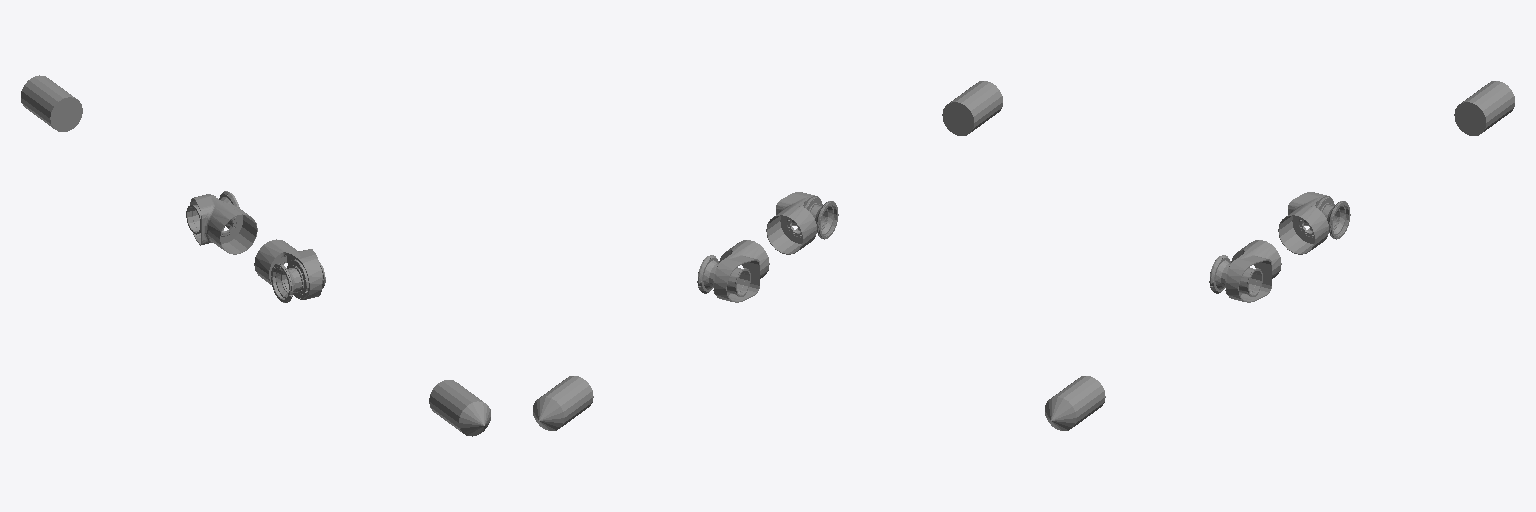
The robot description file, URDF, robot "repair":
<?xml version="1.0" ?>
<!-- =================================================================================== -->
<!-- |    This document was autogenerated by xacro from repair.urdf.xacro              | -->
<!-- |    EDITING THIS FILE BY HAND IS NOT RECOMMENDED                                 | -->
<!-- =================================================================================== -->
<robot name="repair">
  <!-- color -->
  <material name="darkblue">
    <color rgba="0.0 0.3 0.9 1"/>
  </material>
  <material name="dark">
    <color rgba="0.6 0.6 0.6 1"/>
  </material>
  <link name="world"/>
  <link name="base_link">
</link>
  <joint name="base_joint" type="fixed">
    <origin rpy="0 0 0" xyz="0 0 0.5"/>
    <parent link="world"/>
    <child link="base_link"/>
  </joint>
  <link name="r_arm_mount_frame">
</link>
  <joint name="r_arm_mount_joint" type="fixed">
    <origin rpy="1.57079632679 3.14159265359 0" xyz="0 -0.2 0"/>
    <parent link="base_link"/>
    <child link="r_arm_mount_frame"/>
  </joint>
  <joint name="arm_1_joint_1" type="revolute">
    <origin rpy="0 0 0" xyz="0 0 0"/>
    <parent link="r_arm_mount_frame"/>
    <child link="arm_1_link_1"/>
    <axis xyz="0 0 1"/>
    <limit effort="200.0" lower="-2.6179938779916667" upper="2.6179938779916667" velocity="10.0"/>
  </joint>
  <joint name="arm_1_joint_2" type="revolute">
    <origin rpy="0 -1.57079632679 3.14159265359" xyz="0.007 0 0"/>
    <parent link="arm_1_link_1"/>
    <child link="arm_1_link_2"/>
    <axis xyz="0 0 1"/>
    <limit effort="200.0" lower="-1.570796326795" upper="1.570796326795" velocity="10.0"/>
  </joint>
  <joint name="arm_1_joint_3" type="revolute">
    <origin rpy="0 -1.57079632679 3.14159265359" xyz="0 0 0"/>
    <parent link="arm_1_link_2"/>
    <child link="arm_1_link_3"/>
    <axis xyz="0 0 1"/>
    <limit effort="200.0" lower="-2.6179938779916667" upper="2.6179938779916667" velocity="10.0"/>
  </joint>
  <joint name="arm_1_joint_4" type="revolute">
    <origin rpy="0 -1.57079632679 3.14159265359" xyz="0 0.0225 0.36014999999999997"/>
    <parent link="arm_1_link_3"/>
    <child link="arm_1_link_4"/>
    <axis xyz="0 0 1"/>
    <limit effort="200.0" lower="-2.6179938779916667" upper="0.8726646259972222" velocity="10.0"/>
  </joint>
  <joint name="arm_1_joint_5" type="revolute">
    <origin rpy="0 -1.57079632679 3.14159265359" xyz="0 0 0"/>
    <parent link="arm_1_link_4"/>
    <child link="arm_1_link_5"/>
    <axis xyz="0 0 1"/>
    <limit effort="200.0" lower="-2.6179938779916667" upper="2.6179938779916667" velocity="10.0"/>
  </joint>
  <joint name="arm_1_joint_6" type="revolute">
    <origin rpy="0 -1.57079632679 3.14159265359" xyz="0 0 0.321"/>
    <parent link="arm_1_link_5"/>
    <child link="arm_1_link_6"/>
    <axis xyz="0 0 1"/>
    <limit effort="200.0" lower="-2.6179938779916667" upper="2.6179938779916667" velocity="10.0"/>
  </joint>
  <joint name="arm_1_joint_7" type="revolute">
    <origin rpy="0 -1.57079632679 3.14159265359" xyz="0.18 0 0"/>
    <parent link="arm_1_link_6"/>
    <child link="arm_1_link_7"/>
    <axis xyz="0 0 1"/>
    <limit effort="200.0" lower="-2.6179938779916667" upper="2.6179938779916667" velocity="10.0"/>
  </joint>
  <joint name="arm_1_tcp_joint" type="fixed">
    <origin rpy="0 0 0" xyz="0 0 0"/>
    <parent link="arm_1_link_7"/>
    <child link="arm_1_tcp"/>
  </joint>
  <link name="arm_1_link_1">
    <inertial>
      <mass value="0.1"/>
      <inertia ixx="0.0001" ixy="0" ixz="0" iyy="0.0001" iyz="0" izz="0.0001"/>
      <origin xyz="0 0 0"/>
    </inertial>
    <collision name="arm_1_link_1_collision">
      <geometry>
        <mesh filename="package://repair_urdf/meshes/link_1.stl" scale="0.001 0.001 0.001"/>
      </geometry>
      <material name="dark"/>
    </collision>
    <visual name="arm_1_link_1_visual">
      <geometry>
        <mesh filename="package://repair_urdf/meshes/link_1.stl" scale="0.001 0.001 0.001"/>
      </geometry>
      <material name="dark"/>
    </visual>
  </link>
  <link name="arm_1_link_2">
    <inertial>
      <mass value="0.1"/>
      <inertia ixx="0.0001" ixy="0" ixz="0" iyy="0.0001" iyz="0" izz="0.0001"/>
      <origin xyz="0 0 0"/>
    </inertial>
    <collision name="arm_1_link_2_collision">
      <geometry>
        <mesh filename="package://repair_urdf/meshes/link_2.stl" scale="0.001 0.001 0.001"/>
      </geometry>
      <material name="dark"/>
    </collision>
    <visual name="arm_1_link_2_visual">
      <geometry>
        <mesh filename="package://repair_urdf/meshes/link_2.stl" scale="0.001 0.001 0.001"/>
      </geometry>
      <material name="dark"/>
    </visual>
  </link>
  <link name="arm_1_link_3">
    <inertial>
      <mass value="0.1"/>
      <inertia ixx="0.0001" ixy="0" ixz="0" iyy="0.0001" iyz="0" izz="0.0001"/>
      <origin xyz="0 0 0"/>
    </inertial>
    <collision name="arm_1_link_3_collision">
      <geometry>
        <mesh filename="package://repair_urdf/meshes/link_3.stl" scale="0.001 0.001 0.001"/>
      </geometry>
      <material name="dark"/>
    </collision>
    <visual name="arm_1_link_3_visual">
      <geometry>
        <mesh filename="package://repair_urdf/meshes/link_3.stl" scale="0.001 0.001 0.001"/>
      </geometry>
      <material name="dark"/>
    </visual>
  </link>
  <link name="arm_1_link_4">
    <inertial>
      <mass value="0.1"/>
      <inertia ixx="0.0001" ixy="0" ixz="0" iyy="0.0001" iyz="0" izz="0.0001"/>
      <origin xyz="0 0 0"/>
    </inertial>
    <collision name="arm_1_link_4_collision">
      <geometry>
        <mesh filename="package://repair_urdf/meshes/link_4.stl" scale="0.001 0.001 0.001"/>
      </geometry>
      <material name="dark"/>
    </collision>
    <visual name="arm_1_link_4_visual">
      <geometry>
        <mesh filename="package://repair_urdf/meshes/link_4.stl" scale="0.001 0.001 0.001"/>
      </geometry>
      <material name="dark"/>
    </visual>
  </link>
  <link name="arm_1_link_5">
    <inertial>
      <mass value="0.1"/>
      <inertia ixx="0.0001" ixy="0" ixz="0" iyy="0.0001" iyz="0" izz="0.0001"/>
      <origin xyz="0 0 0"/>
    </inertial>
    <collision name="arm_1_link_5_collision">
      <geometry>
        <mesh filename="package://repair_urdf/meshes/link_5.stl" scale="0.001 0.001 0.001"/>
      </geometry>
      <material name="dark"/>
    </collision>
    <visual name="arm_1_link_5_visual">
      <geometry>
        <mesh filename="package://repair_urdf/meshes/link_5.stl" scale="0.001 0.001 0.001"/>
      </geometry>
      <material name="dark"/>
    </visual>
  </link>
  <link name="arm_1_link_6">
    <inertial>
      <mass value="0.1"/>
      <inertia ixx="0.0001" ixy="0" ixz="0" iyy="0.0001" iyz="0" izz="0.0001"/>
      <origin xyz="0 0 0"/>
    </inertial>
    <collision name="arm_1_link_6_collision">
      <geometry>
        <mesh filename="package://repair_urdf/meshes/link_6.stl" scale="0.001 0.001 0.001"/>
      </geometry>
      <material name="dark"/>
    </collision>
    <visual name="arm_1_link_6_visual">
      <geometry>
        <mesh filename="package://repair_urdf/meshes/link_6.stl" scale="0.001 0.001 0.001"/>
      </geometry>
      <material name="dark"/>
    </visual>
  </link>
  <link name="arm_1_link_7">
    <inertial>
      <mass value="0.1"/>
      <inertia ixx="0.0001" ixy="0" ixz="0" iyy="0.0001" iyz="0" izz="0.0001"/>
      <origin xyz="0 0 0"/>
    </inertial>
    <collision name="arm_1_link_7_collision">
      <geometry>
        <mesh filename="package://repair_urdf/meshes/link_7.stl" scale="0.001 0.001 0.001"/>
      </geometry>
      <material name="dark"/>
    </collision>
    <visual name="arm_1_link_7_visual">
      <geometry>
        <mesh filename="package://repair_urdf/meshes/link_7.stl" scale="0.001 0.001 0.001"/>
      </geometry>
      <material name="dark"/>
    </visual>
  </link>
  <link name="arm_1_tcp"/>
  <link name="l_arm_mount_frame">
</link>
  <joint name="l_arm_mount_joint" type="fixed">
    <origin rpy="-1.57079632679 0 0" xyz="0 0.2 0"/>
    <parent link="base_link"/>
    <child link="l_arm_mount_frame"/>
  </joint>
  <joint name="arm_2_joint_1" type="revolute">
    <origin rpy="0 0 0" xyz="0 0 0"/>
    <parent link="l_arm_mount_frame"/>
    <child link="arm_2_link_1"/>
    <axis xyz="0 0 1"/>
    <limit effort="200.0" lower="-2.6179938779916667" upper="2.6179938779916667" velocity="10.0"/>
  </joint>
  <joint name="arm_2_joint_2" type="revolute">
    <origin rpy="0 -1.57079632679 3.14159265359" xyz="0.007 0 0"/>
    <parent link="arm_2_link_1"/>
    <child link="arm_2_link_2"/>
    <axis xyz="0 0 1"/>
    <limit effort="200.0" lower="-1.570796326795" upper="1.570796326795" velocity="10.0"/>
  </joint>
  <joint name="arm_2_joint_3" type="revolute">
    <origin rpy="0 -1.57079632679 3.14159265359" xyz="0 0 0"/>
    <parent link="arm_2_link_2"/>
    <child link="arm_2_link_3"/>
    <axis xyz="0 0 1"/>
    <limit effort="200.0" lower="-2.6179938779916667" upper="2.6179938779916667" velocity="10.0"/>
  </joint>
  <joint name="arm_2_joint_4" type="revolute">
    <origin rpy="0 -1.57079632679 3.14159265359" xyz="0 0.0225 0.36014999999999997"/>
    <parent link="arm_2_link_3"/>
    <child link="arm_2_link_4"/>
    <axis xyz="0 0 1"/>
    <limit effort="200.0" lower="-2.6179938779916667" upper="0.8726646259972222" velocity="10.0"/>
  </joint>
  <joint name="arm_2_joint_5" type="revolute">
    <origin rpy="0 -1.57079632679 3.14159265359" xyz="0 0 0"/>
    <parent link="arm_2_link_4"/>
    <child link="arm_2_link_5"/>
    <axis xyz="0 0 1"/>
    <limit effort="200.0" lower="-2.6179938779916667" upper="2.6179938779916667" velocity="10.0"/>
  </joint>
  <joint name="arm_2_joint_6" type="revolute">
    <origin rpy="0 -1.57079632679 3.14159265359" xyz="0 0 0.321"/>
    <parent link="arm_2_link_5"/>
    <child link="arm_2_link_6"/>
    <axis xyz="0 0 1"/>
    <limit effort="200.0" lower="-2.6179938779916667" upper="2.6179938779916667" velocity="10.0"/>
  </joint>
  <joint name="arm_2_joint_7" type="revolute">
    <origin rpy="0 -1.57079632679 3.14159265359" xyz="0.18 0 0"/>
    <parent link="arm_2_link_6"/>
    <child link="arm_2_link_7"/>
    <axis xyz="0 0 1"/>
    <limit effort="200.0" lower="-2.6179938779916667" upper="2.6179938779916667" velocity="10.0"/>
  </joint>
  <joint name="arm_2_tcp_joint" type="fixed">
    <origin rpy="0 0 0" xyz="0 0 0"/>
    <parent link="arm_2_link_7"/>
    <child link="arm_2_tcp"/>
  </joint>
  <link name="arm_2_link_1">
    <inertial>
      <mass value="0.1"/>
      <inertia ixx="0.0001" ixy="0" ixz="0" iyy="0.0001" iyz="0" izz="0.0001"/>
      <origin xyz="0 0 0"/>
    </inertial>
    <collision name="arm_2_link_1_collision">
      <geometry>
        <mesh filename="package://repair_urdf/meshes/link_1.stl" scale="0.001 0.001 0.001"/>
      </geometry>
      <material name="dark"/>
    </collision>
    <visual name="arm_2_link_1_visual">
      <geometry>
        <mesh filename="package://repair_urdf/meshes/link_1.stl" scale="0.001 0.001 0.001"/>
      </geometry>
      <material name="dark"/>
    </visual>
  </link>
  <link name="arm_2_link_2">
    <inertial>
      <mass value="0.1"/>
      <inertia ixx="0.0001" ixy="0" ixz="0" iyy="0.0001" iyz="0" izz="0.0001"/>
      <origin xyz="0 0 0"/>
    </inertial>
    <collision name="arm_2_link_2_collision">
      <geometry>
        <mesh filename="package://repair_urdf/meshes/link_2.stl" scale="0.001 0.001 0.001"/>
      </geometry>
      <material name="dark"/>
    </collision>
    <visual name="arm_2_link_2_visual">
      <geometry>
        <mesh filename="package://repair_urdf/meshes/link_2.stl" scale="0.001 0.001 0.001"/>
      </geometry>
      <material name="dark"/>
    </visual>
  </link>
  <link name="arm_2_link_3">
    <inertial>
      <mass value="0.1"/>
      <inertia ixx="0.0001" ixy="0" ixz="0" iyy="0.0001" iyz="0" izz="0.0001"/>
      <origin xyz="0 0 0"/>
    </inertial>
    <collision name="arm_2_link_3_collision">
      <geometry>
        <mesh filename="package://repair_urdf/meshes/link_3.stl" scale="0.001 0.001 0.001"/>
      </geometry>
      <material name="dark"/>
    </collision>
    <visual name="arm_2_link_3_visual">
      <geometry>
        <mesh filename="package://repair_urdf/meshes/link_3.stl" scale="0.001 0.001 0.001"/>
      </geometry>
      <material name="dark"/>
    </visual>
  </link>
  <link name="arm_2_link_4">
    <inertial>
      <mass value="0.1"/>
      <inertia ixx="0.0001" ixy="0" ixz="0" iyy="0.0001" iyz="0" izz="0.0001"/>
      <origin xyz="0 0 0"/>
    </inertial>
    <collision name="arm_2_link_4_collision">
      <geometry>
        <mesh filename="package://repair_urdf/meshes/link_4.stl" scale="0.001 0.001 0.001"/>
      </geometry>
      <material name="dark"/>
    </collision>
    <visual name="arm_2_link_4_visual">
      <geometry>
        <mesh filename="package://repair_urdf/meshes/link_4.stl" scale="0.001 0.001 0.001"/>
      </geometry>
      <material name="dark"/>
    </visual>
  </link>
  <link name="arm_2_link_5">
    <inertial>
      <mass value="0.1"/>
      <inertia ixx="0.0001" ixy="0" ixz="0" iyy="0.0001" iyz="0" izz="0.0001"/>
      <origin xyz="0 0 0"/>
    </inertial>
    <collision name="arm_2_link_5_collision">
      <geometry>
        <mesh filename="package://repair_urdf/meshes/link_5.stl" scale="0.001 0.001 0.001"/>
      </geometry>
      <material name="dark"/>
    </collision>
    <visual name="arm_2_link_5_visual">
      <geometry>
        <mesh filename="package://repair_urdf/meshes/link_5.stl" scale="0.001 0.001 0.001"/>
      </geometry>
      <material name="dark"/>
    </visual>
  </link>
  <link name="arm_2_link_6">
    <inertial>
      <mass value="0.1"/>
      <inertia ixx="0.0001" ixy="0" ixz="0" iyy="0.0001" iyz="0" izz="0.0001"/>
      <origin xyz="0 0 0"/>
    </inertial>
    <collision name="arm_2_link_6_collision">
      <geometry>
        <mesh filename="package://repair_urdf/meshes/link_6.stl" scale="0.001 0.001 0.001"/>
      </geometry>
      <material name="dark"/>
    </collision>
    <visual name="arm_2_link_6_visual">
      <geometry>
        <mesh filename="package://repair_urdf/meshes/link_6.stl" scale="0.001 0.001 0.001"/>
      </geometry>
      <material name="dark"/>
    </visual>
  </link>
  <link name="arm_2_link_7">
    <inertial>
      <mass value="0.1"/>
      <inertia ixx="0.0001" ixy="0" ixz="0" iyy="0.0001" iyz="0" izz="0.0001"/>
      <origin xyz="0 0 0"/>
    </inertial>
    <collision name="arm_2_link_7_collision">
      <geometry>
        <mesh filename="package://repair_urdf/meshes/link_7.stl" scale="0.001 0.001 0.001"/>
      </geometry>
      <material name="dark"/>
    </collision>
    <visual name="arm_2_link_7_visual">
      <geometry>
        <mesh filename="package://repair_urdf/meshes/link_7.stl" scale="0.001 0.001 0.001"/>
      </geometry>
      <material name="dark"/>
    </visual>
  </link>
  <link name="arm_2_tcp"/>
</robot>

--- Render facts (derived) ---
The picture shows the robot from 3 angles, left to right: view 1: azimuth 30°, elevation 25°; view 2: azimuth 150°, elevation 25°; view 3: azimuth 330°, elevation 25°; orthographic projection.
Robot: repair — 20 links, 19 joints (14 revolute, 5 fixed); root link world; default pose: all joints at 0.
Visible links, largest first — view 1: arm_1_link_1, arm_2_link_1, arm_1_link_7, arm_2_link_7; view 2: arm_1_link_1, arm_2_link_1, arm_1_link_7, arm_2_link_7; view 3: arm_2_link_1, arm_1_link_1, arm_1_link_7, arm_2_link_7.
Boxes of the visible links, box(x1,y1,x2,y2) form: arm_1_link_1: box(254, 239, 325, 302); arm_2_link_1: box(186, 191, 257, 254); arm_1_link_7: box(429, 380, 490, 436); arm_2_link_7: box(21, 75, 82, 131); arm_1_link_1: box(766, 192, 838, 254); arm_2_link_1: box(697, 240, 769, 302); arm_1_link_7: box(942, 81, 1002, 135); arm_2_link_7: box(533, 376, 593, 430); arm_2_link_1: box(1278, 192, 1350, 254); arm_1_link_1: box(1209, 240, 1281, 302); arm_1_link_7: box(1045, 376, 1105, 430); arm_2_link_7: box(1454, 81, 1514, 135).
Size in the robot's own frame: 0.1226 by 2.12 by 0.1153 metres.
4 mesh visuals loaded from 7 distinct referenced files (2 binary STL); not drawn: 10 (reference not matched to a file when rendering).